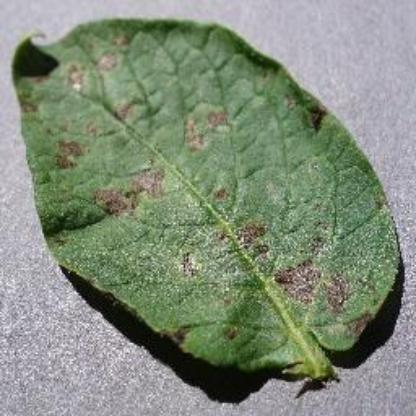Early-Blight: (12, 19, 406, 393)
